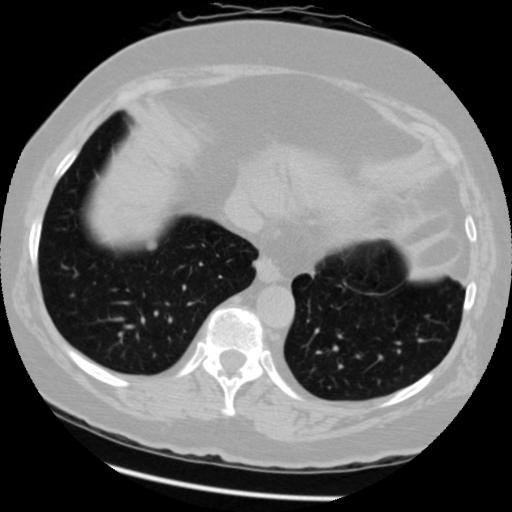nodule: (143, 236, 161, 254)
